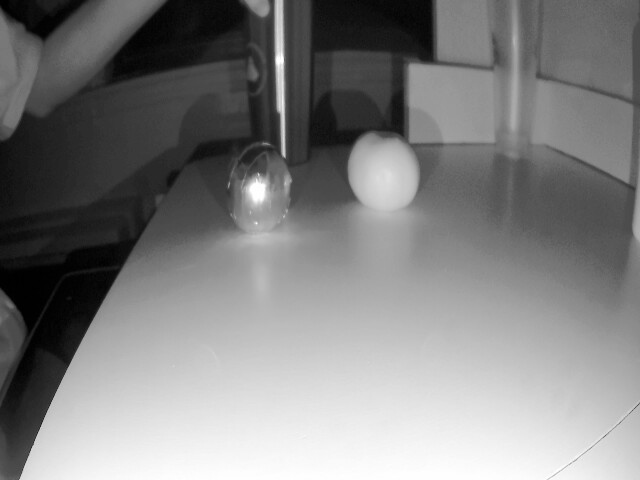silver: (222, 135, 290, 224)
